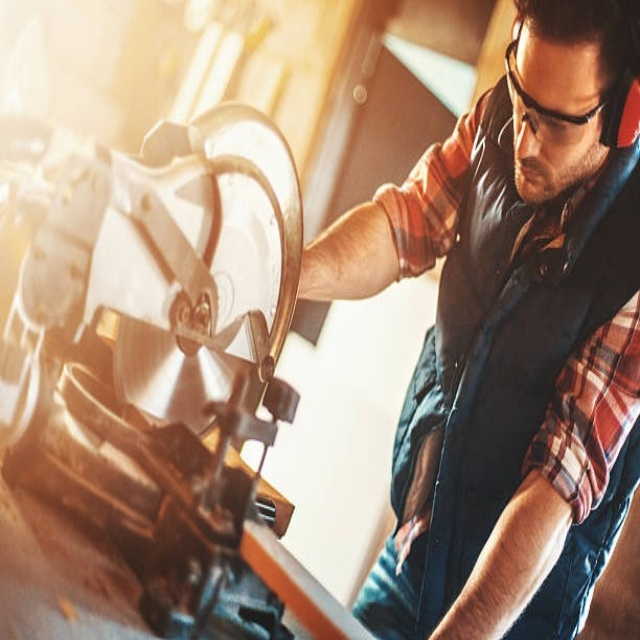Gafas: (505, 25, 623, 135)
Sin_mascara: (513, 155, 550, 201)
